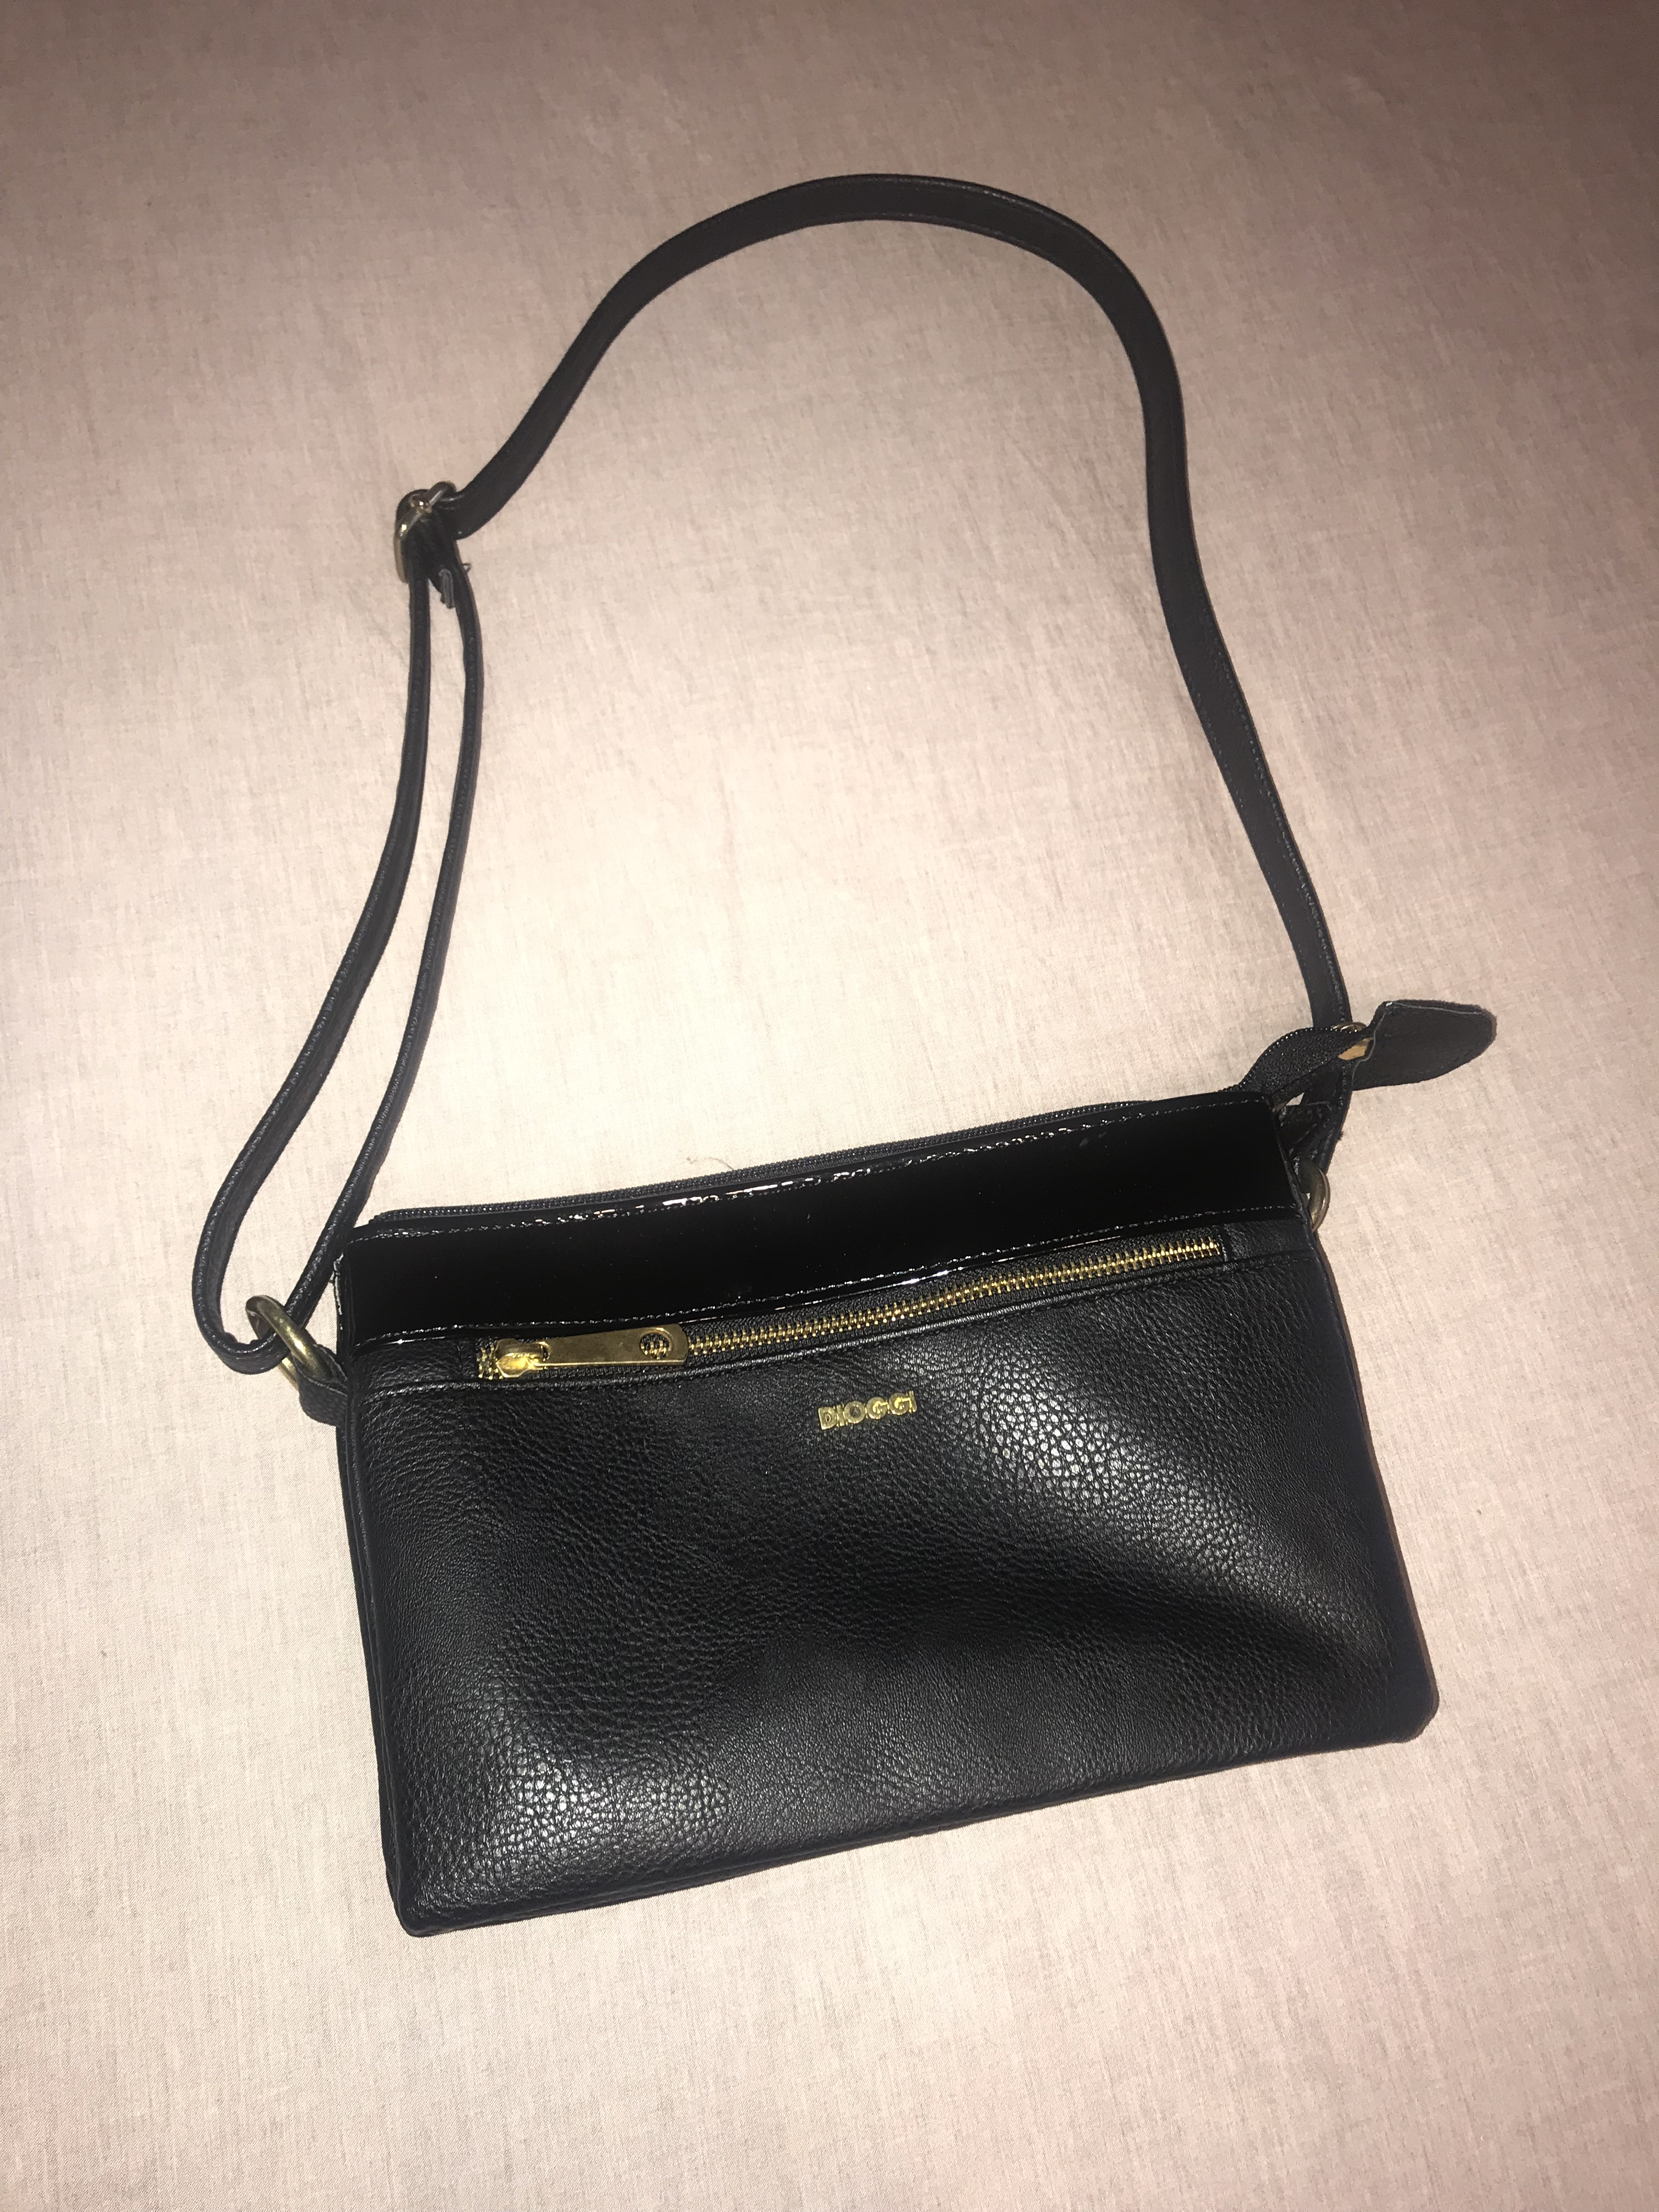cartera: (176, 155, 1507, 1987)
cuero: (460, 1552, 662, 1825)
